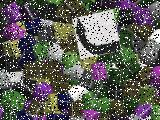Right: (72, 9, 122, 60)
